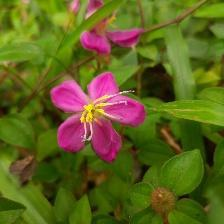malabar melastome: (50, 73, 149, 164)
